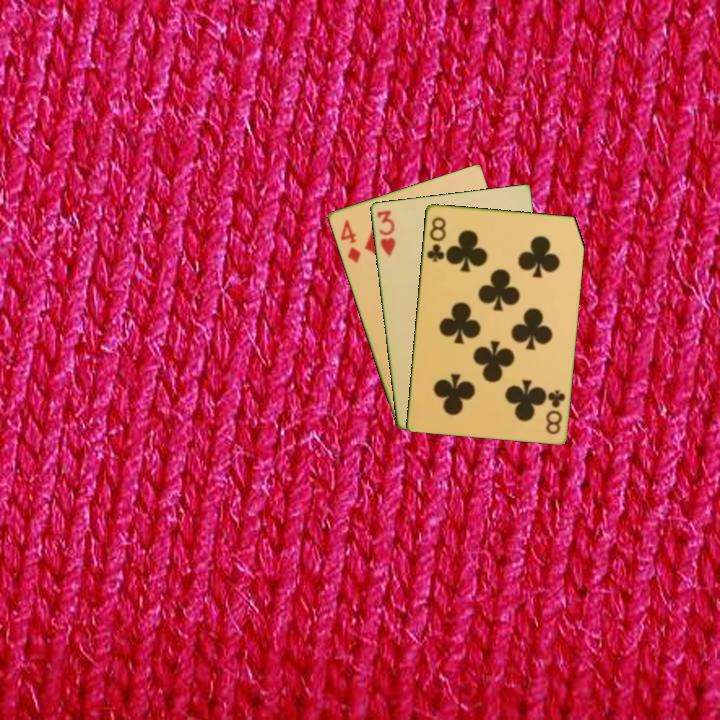3h: (373, 206, 398, 259)
4d: (336, 216, 363, 266)
8c: (423, 213, 449, 265), (542, 386, 568, 437)
